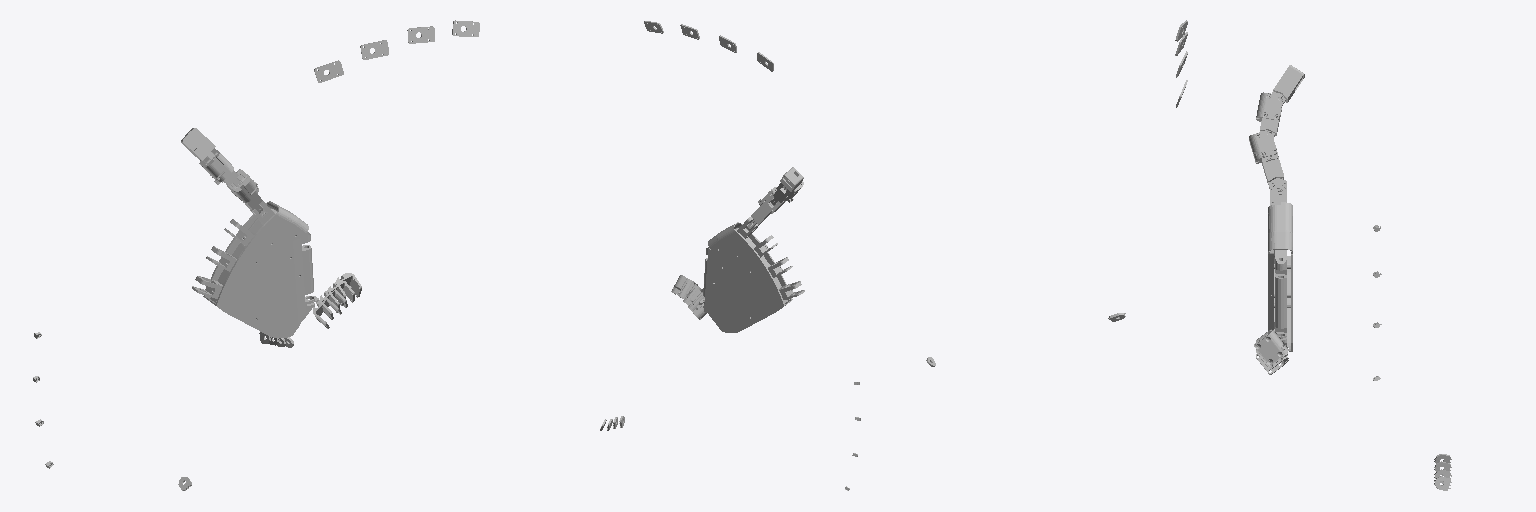
URDF robot description (Assem9):
<?xml version="1.0" encoding="utf-8"?>
<!-- This URDF was automatically created by SolidWorks to URDF Exporter! Originally created by [author] ([email redacted]) 
     Commit Version: 1.5.1-0-g916b5db  Build Version: 1.5.7152.31018
     For more information, please see http://wiki.ros.org/sw_urdf_exporter -->
<robot
  name="Assem9">
  <link
    name="base_link">
    <inertial>
      <origin
        xyz="-0.0784181346772834 0.0216865354845923 0.0519080506276422"
        rpy="0 0 0" />
      <mass
        value="0.123509016850579" />
      <inertia
        ixx="8.88237314481654E-05"
        ixy="9.11796897240884E-06"
        ixz="8.07416451670103E-07"
        iyy="7.06141777765002E-05"
        iyz="-7.27332787833695E-07"
        izz="0.000156863448812758" />
    </inertial>
    <visual>
      <origin
        xyz="0 0 0"
        rpy="0 0 0" />
      <geometry>
        <mesh
          filename="package://Assem9/meshes/base_link.STL" />
      </geometry>
      <material
        name="">
        <color
          rgba="0.752941176470588 0.752941176470588 0.752941176470588 1" />
      </material>
    </visual>
    <collision>
      <origin
        xyz="0 0 0"
        rpy="0 0 0" />
      <geometry>
        <mesh
          filename="package://Assem9/meshes/base_link.STL" />
      </geometry>
    </collision>
  </link>
  <link
    name="INDEX">
    <inertial>
      <origin
        xyz="-0.0144326627089809 0.0542536671695487 -0.018111878088184"
        rpy="0 0 0" />
      <mass
        value="0.0234263003223455" />
      <inertia
        ixx="2.27491816288172E-06"
        ixy="-6.33121394937988E-09"
        ixz="-7.9283804988921E-09"
        iyy="1.15909780545131E-06"
        iyz="3.85037852710387E-07"
        izz="2.1413945038986E-06" />
    </inertial>
    <visual>
      <origin
        xyz="0 0 0"
        rpy="0 0 0" />
      <geometry>
        <mesh
          filename="package://Assem9/meshes/INDEX.STL" />
      </geometry>
      <material
        name="">
        <color
          rgba="0.752941176470588 0.752941176470588 0.752941176470588 1" />
      </material>
    </visual>
    <collision>
      <origin
        xyz="0 0 0"
        rpy="0 0 0" />
      <geometry>
        <mesh
          filename="package://Assem9/meshes/INDEX.STL" />
      </geometry>
    </collision>
  </link>
  <joint
    name="inde1"
    type="continuous">
    <origin
      xyz="-0.071883 -0.053892 0.09301"
      rpy="1.97 -0.65797 0" />
    <parent
      link="base_link" />
    <child
      link="INDEX" />
    <axis
      xyz="1 0 0" />
  </joint>
</robot>

--- Render facts (derived) ---
The picture shows the robot from 3 angles, left to right: view 1: azimuth 30°, elevation 25°; view 2: azimuth 150°, elevation 25°; view 3: azimuth 270°, elevation 25°; orthographic projection.
Robot: Assem9 — 2 links, 1 joints (1 continuous); root link base_link; default pose: all joints at 0.
Visible links, largest first — view 1: base_link, INDEX; view 2: base_link, INDEX; view 3: base_link, INDEX.
Link boxes in pixels (box(x1,y1,x2,y2)): base_link: box(33, 20, 479, 490); INDEX: box(181, 128, 262, 213); base_link: box(600, 21, 935, 490); INDEX: box(746, 167, 803, 230); base_link: box(1108, 20, 1451, 490); INDEX: box(1249, 65, 1304, 195).
Size in the robot's own frame: 0.367 by 0.2825 by 0.4296 metres.
Meshes: 2 distinct files referenced, 2 mesh visuals loaded (2 binary STL).
